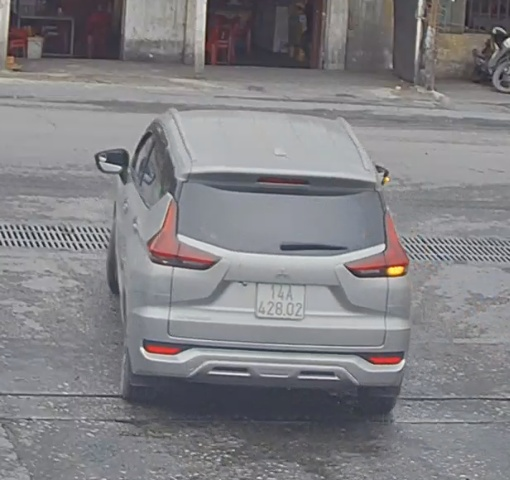vehicle plate: (249, 276, 311, 321)
